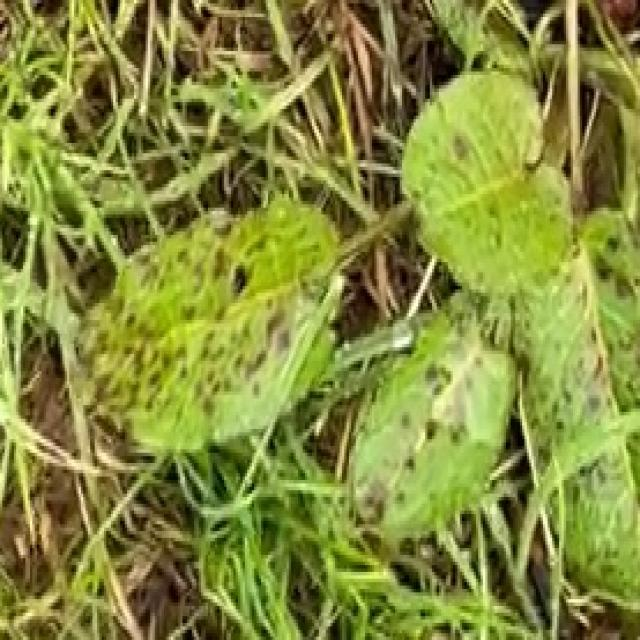organic waste: (94, 2, 640, 568)
